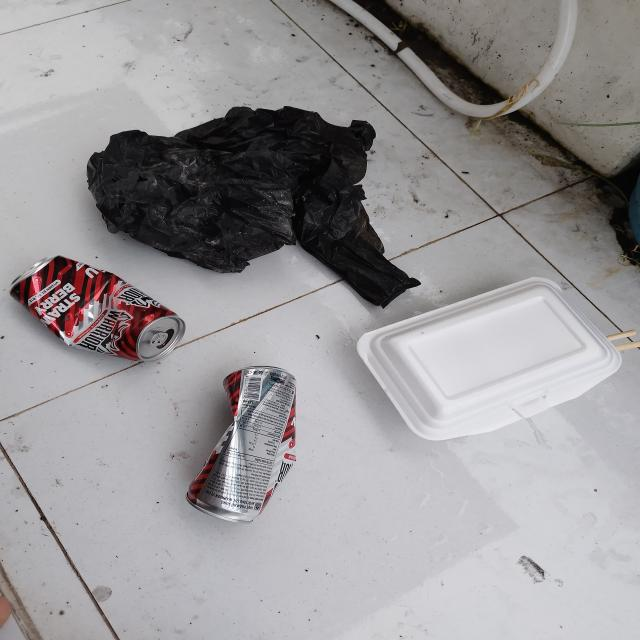bag: (86, 106, 423, 310)
can: (8, 255, 184, 362), (181, 366, 298, 524)
foam box: (356, 276, 624, 441)
